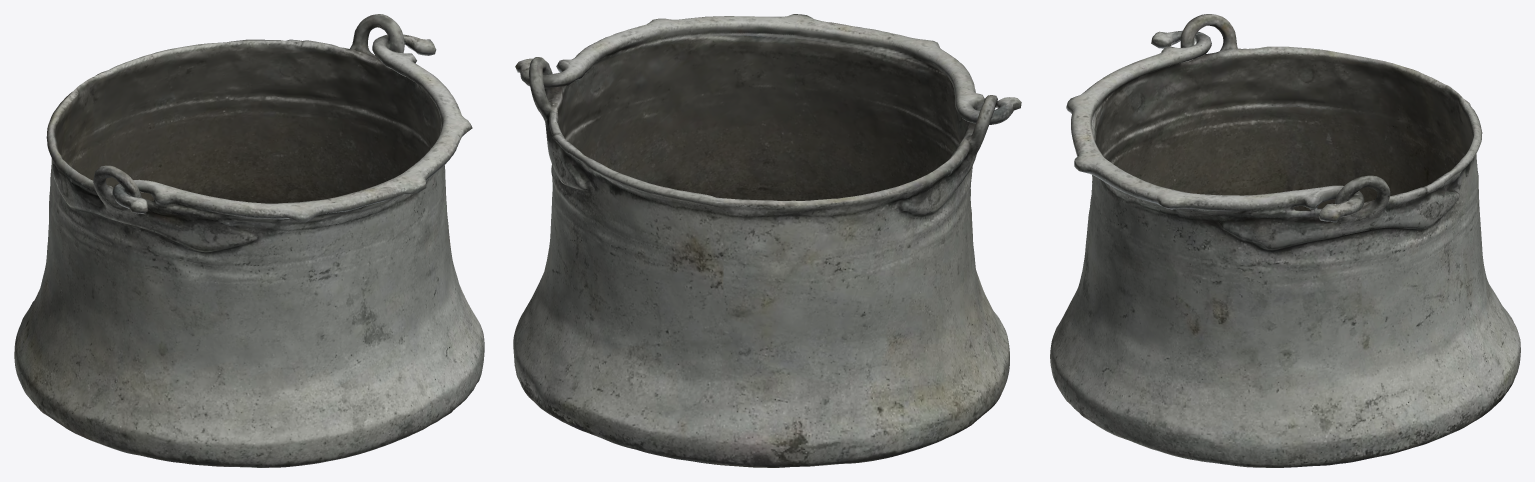
The model's file is cauldron.glb.
3 renders of one model, left to right at view 1: azimuth 30°, elevation 25°; view 2: azimuth 150°, elevation 25°; view 3: azimuth 270°, elevation 25°, orthographic. The views are drawn at different scales.
Parts seen in each view (by area): view 1: MT_E_3524_FINAL2; view 2: MT_E_3524_FINAL2; view 3: MT_E_3524_FINAL2.
Boxes of the visible parts, left/top/right/bottom form: MT_E_3524_FINAL2: left=14, top=14, right=484, bottom=467; MT_E_3524_FINAL2: left=513, top=14, right=1021, bottom=467; MT_E_3524_FINAL2: left=1050, top=14, right=1520, bottom=467.
Size of the model in its own units: 21.11 by 15.3 by 20.93.
Materials: 1 (1 with a texture image).
